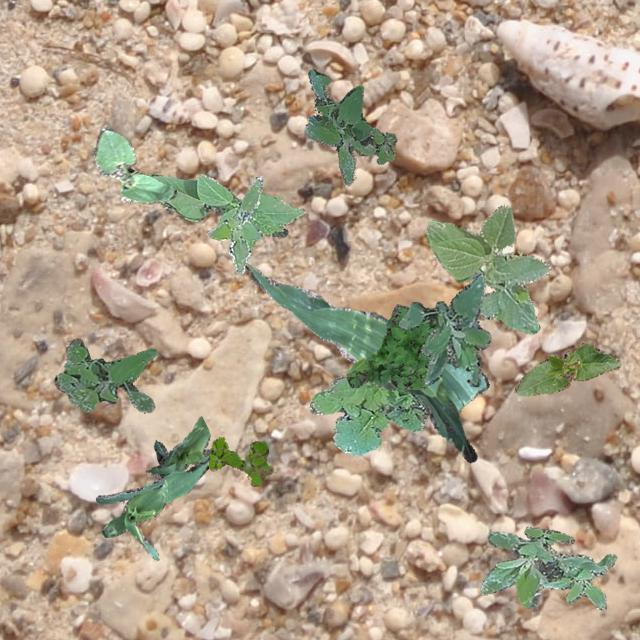crop: (244, 264, 488, 462), (426, 204, 550, 334), (146, 172, 304, 250), (100, 456, 208, 558), (94, 416, 210, 504), (92, 125, 176, 202), (514, 342, 620, 394)
weed: (478, 526, 616, 608), (304, 68, 396, 184), (398, 272, 490, 386), (308, 374, 428, 454), (346, 304, 438, 388), (54, 338, 156, 412), (208, 175, 262, 272), (208, 436, 272, 486)
